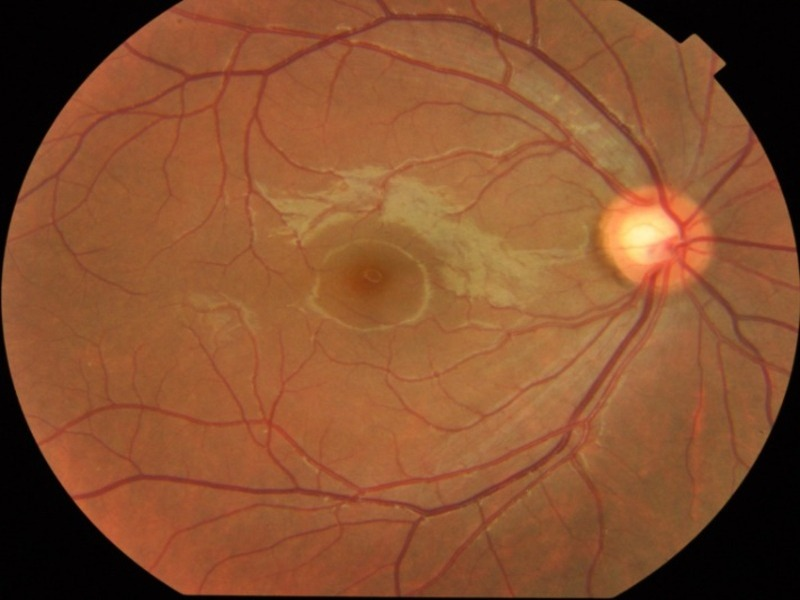Optic Cup: (619, 206, 677, 270)
Optic Disc: (598, 184, 713, 297)
